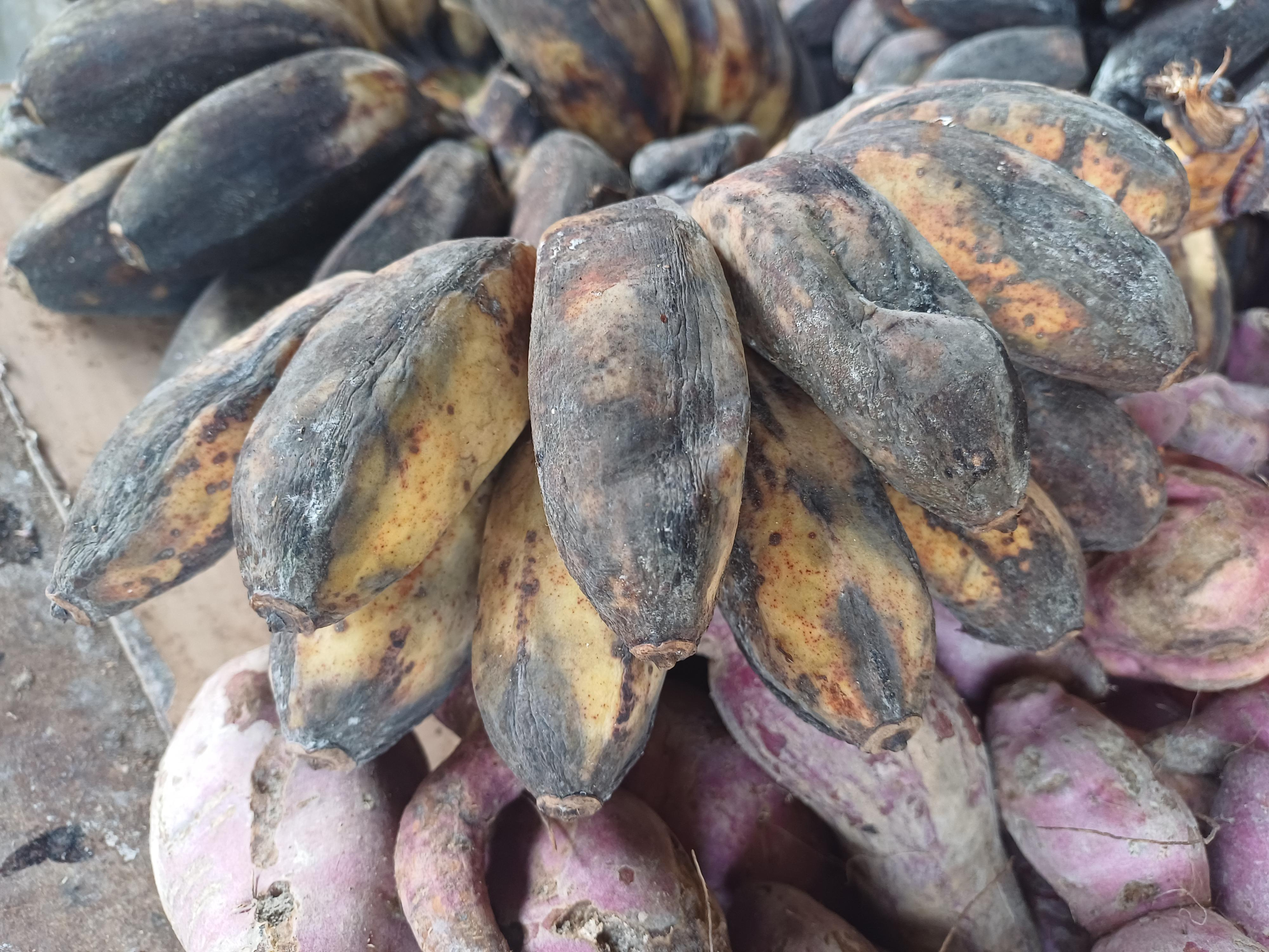overripe: (49, 79, 1194, 815), (8, 0, 635, 380), (474, 0, 807, 163)
